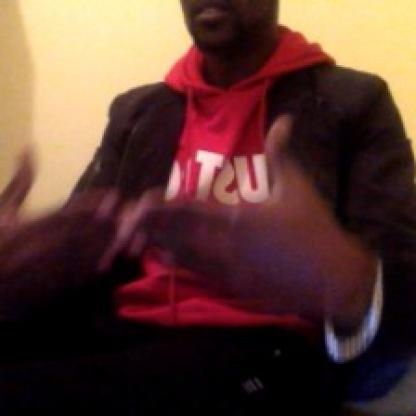TURN LEFT: (2, 145, 404, 370)
